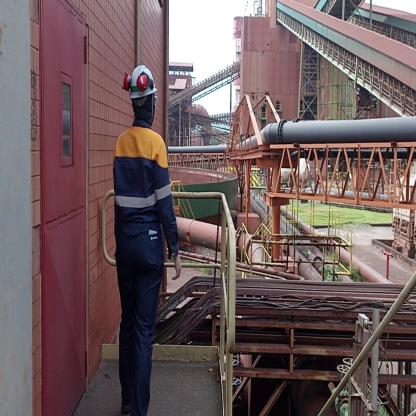Balaclava: (132, 97, 156, 129)
Capacete: (127, 61, 156, 99)
Operacional: (114, 127, 171, 227)
